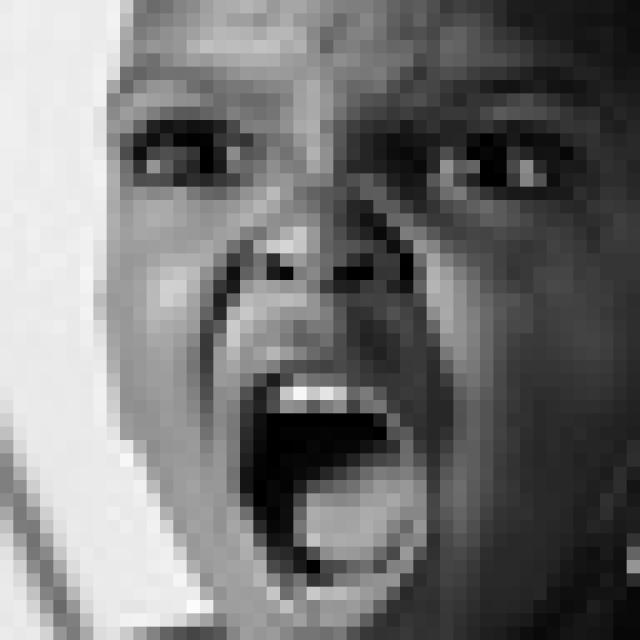angry: (107, 58, 614, 616)
